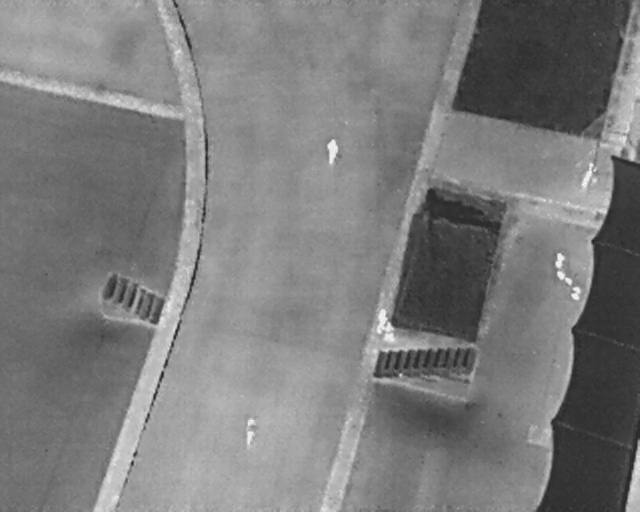Person: (374, 306, 389, 336), (581, 160, 595, 188), (245, 416, 257, 447), (326, 138, 340, 163), (385, 321, 396, 341)
